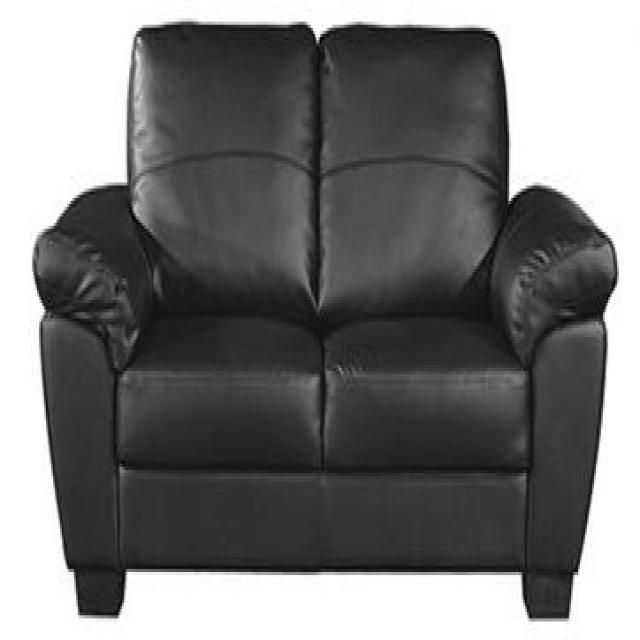sofa: (29, 12, 621, 625)
